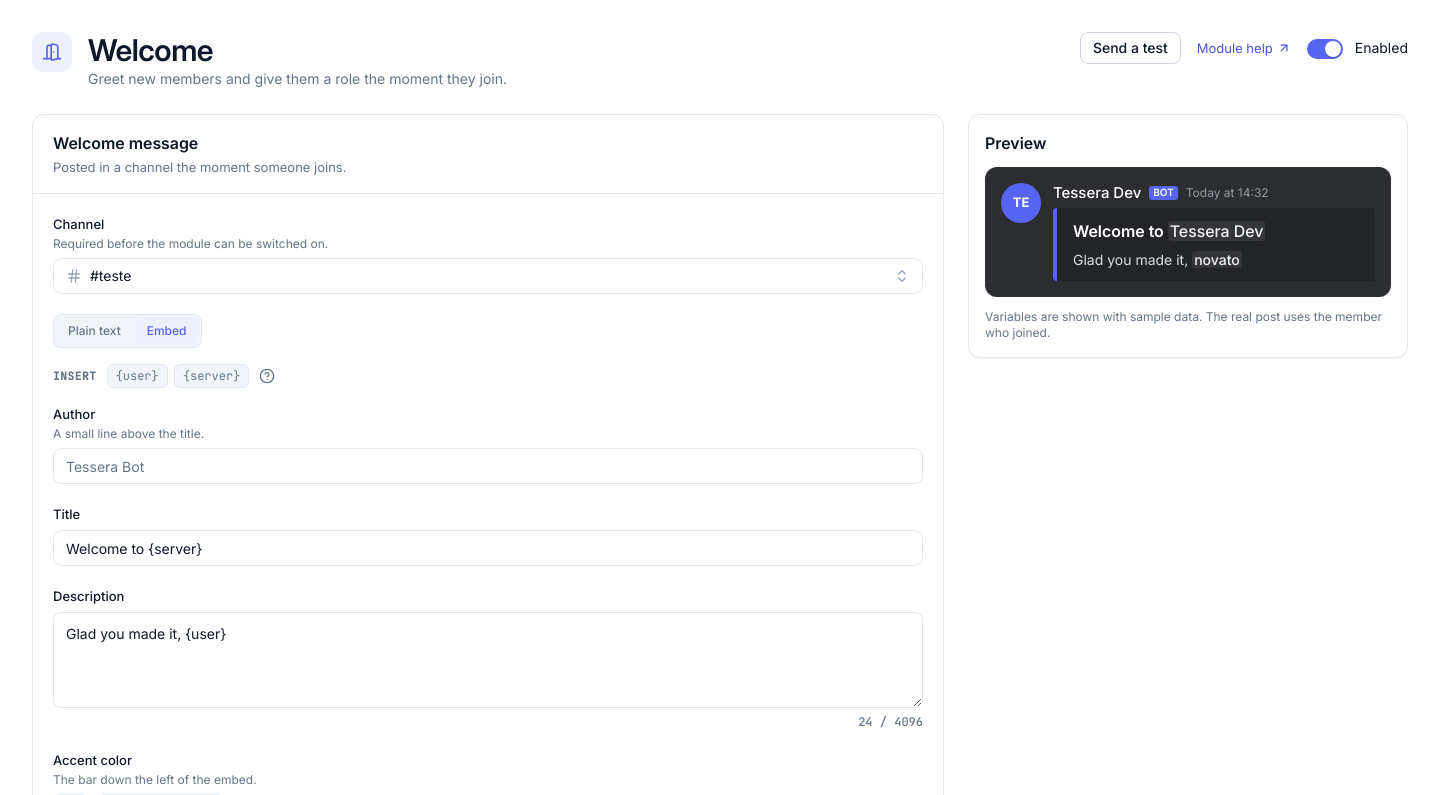
WelcomeScreen › refuses to swallow a write that landed after someone else edited
Click the switch named "Enabled": (1325,49) [1307, 39, 1343, 59]
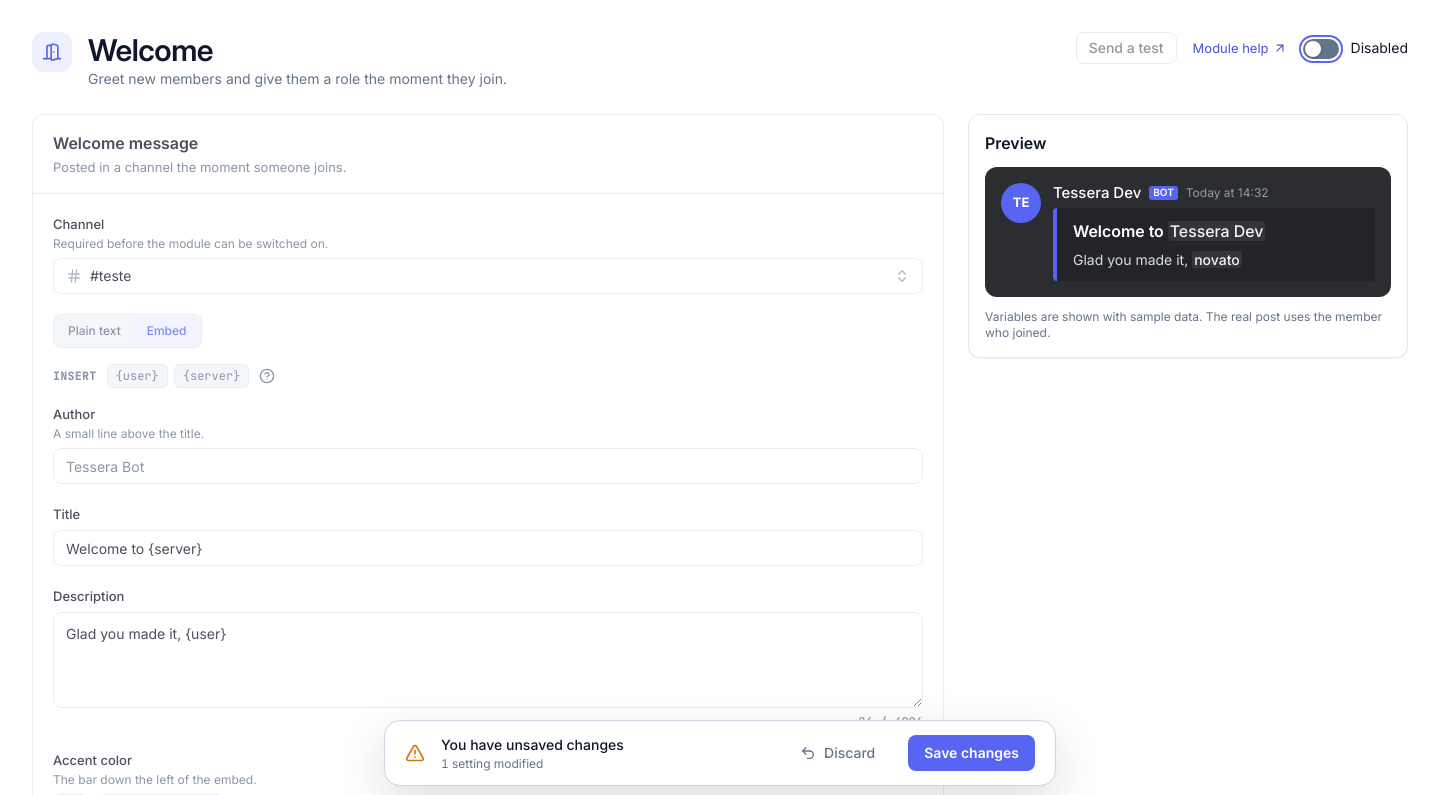
Click the button "Save changes": (972,753) [908, 735, 1035, 771]
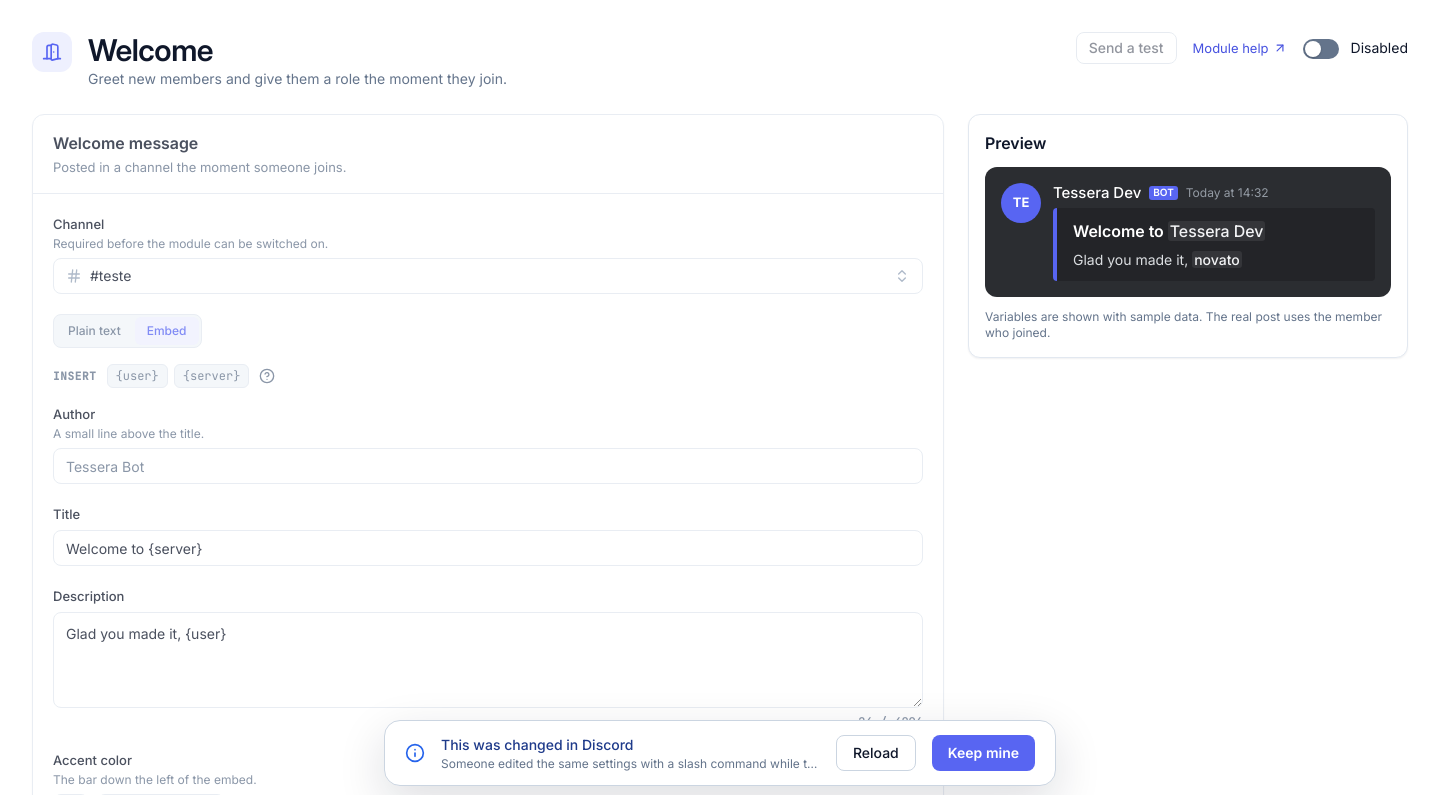
expect the text "This was changed in Discord" is shown: met, box [441, 736, 634, 753]
